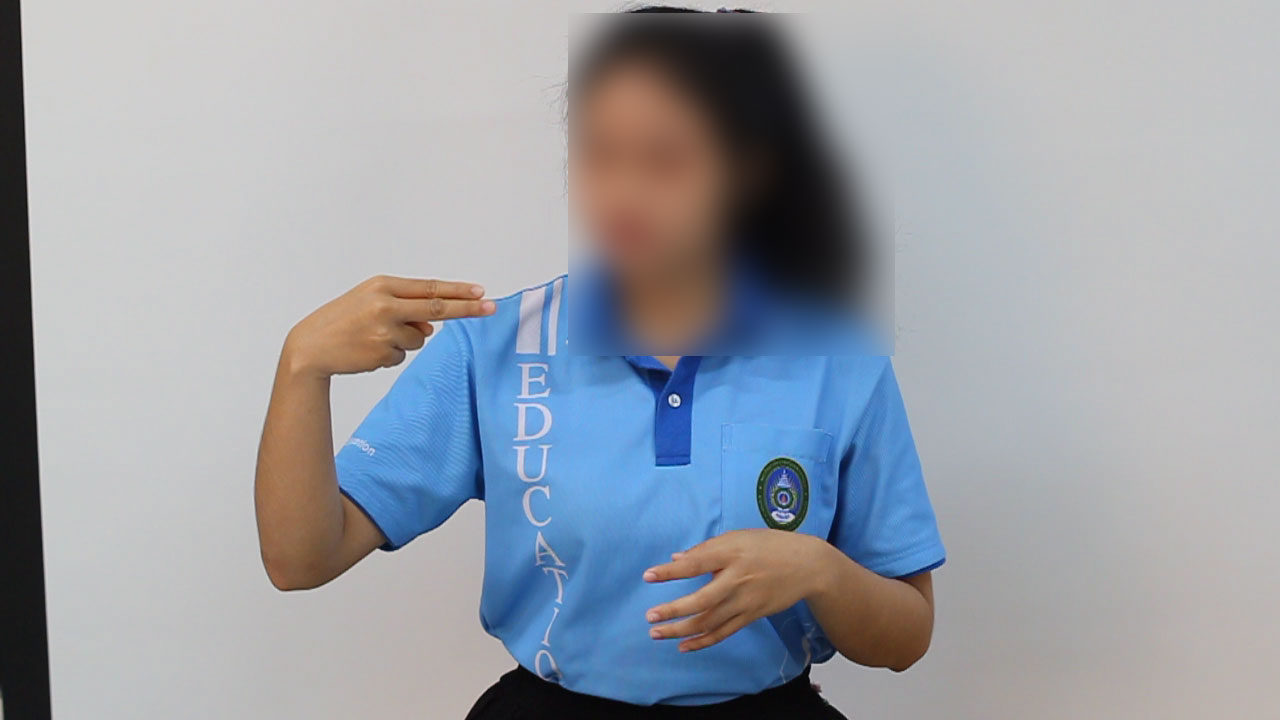hor: (266, 270, 513, 385)
